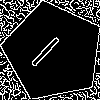I: (28, 27, 69, 70)
